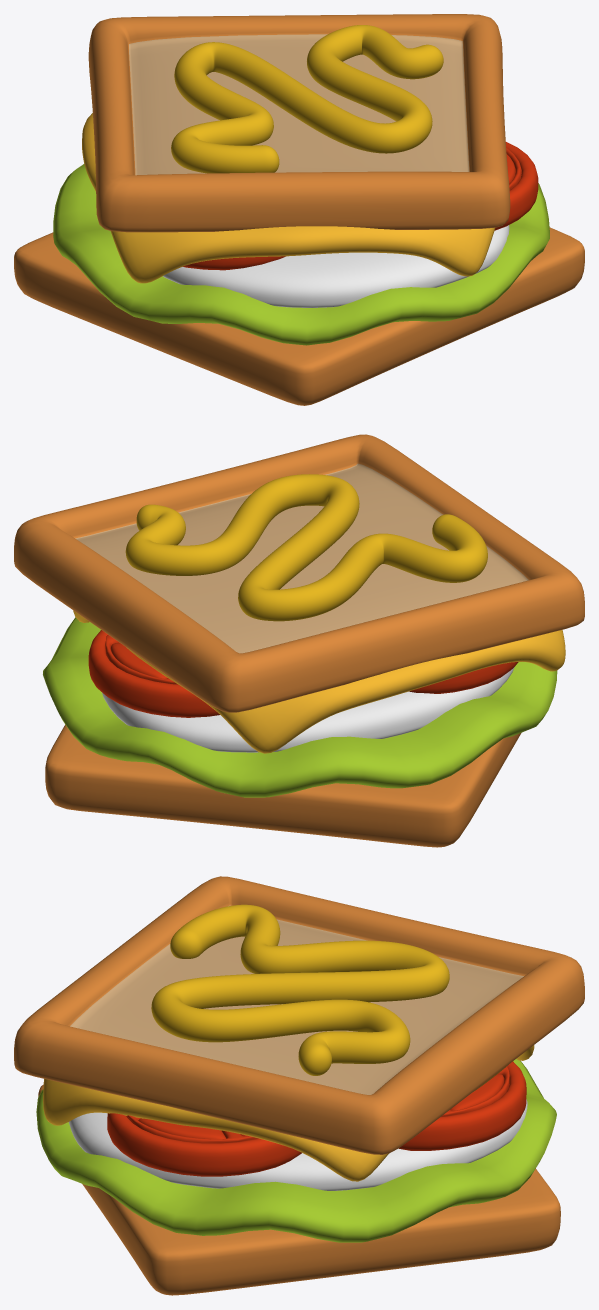
File: SandwichEgg.fbx
3 views of the same model, one above another, from view 1: azimuth 30°, elevation 25°; view 2: azimuth 150°, elevation 25°; view 3: azimuth 270°, elevation 25° (orthographic). The views are drawn at different scales.
Visible parts, largest first — view 1: SandwichBread_Top, SandwichBread_Bottom, SandwichMustardSauce, SandwichLettuceLeaf, SandwichCheeseSlice, SandwichEggWhite, SandwichSlicedTom_01, SandwichSlicedTom_03; view 2: SandwichBread_Top, SandwichLettuceLeaf, SandwichMustardSauce, SandwichBread_Bottom, SandwichCheeseSlice, SandwichEggWhite, SandwichSlicedTom_02, SandwichSlicedTom_03; view 3: SandwichBread_Top, SandwichMustardSauce, SandwichLettuceLeaf, SandwichBread_Bottom, SandwichEggWhite, SandwichSlicedTom_01, SandwichCheeseSlice, SandwichSlicedTom_02.
Boxes of the visible parts, left/top/right/bottom form: SandwichBread_Top: left=88, top=14, right=510, bottom=232; SandwichBread_Bottom: left=14, top=227, right=584, bottom=405; SandwichMustardSauce: left=171, top=25, right=443, bottom=173; SandwichLettuceLeaf: left=53, top=164, right=549, bottom=345; SandwichCheeseSlice: left=82, top=113, right=495, bottom=283; SandwichEggWhite: left=163, top=225, right=509, bottom=307; SandwichSlicedTom_01: left=494, top=142, right=538, bottom=230; SandwichSlicedTom_03: left=183, top=256, right=285, bottom=270; SandwichBread_Top: left=14, top=434, right=584, bottom=712; SandwichLettuceLeaf: left=43, top=617, right=557, bottom=797; SandwichMustardSauce: left=125, top=474, right=487, bottom=621; SandwichBread_Bottom: left=45, top=724, right=521, bottom=847; SandwichCheeseSlice: left=73, top=610, right=565, bottom=753; SandwichEggWhite: left=102, top=667, right=514, bottom=752; SandwichSlicedTom_02: left=88, top=630, right=219, bottom=717; SandwichSlicedTom_03: left=409, top=662, right=518, bottom=693; SandwichBread_Top: left=14, top=876, right=584, bottom=1154; SandwichMustardSauce: left=151, top=904, right=449, bottom=1075; SandwichLettuceLeaf: left=36, top=1059, right=556, bottom=1242; SandwichBread_Bottom: left=38, top=1084, right=560, bottom=1295; SandwichEggWhite: left=69, top=1099, right=527, bottom=1190; SandwichSlicedTom_01: left=107, top=1113, right=301, bottom=1176; SandwichCheeseSlice: left=43, top=1045, right=534, bottom=1181; SandwichSlicedTom_02: left=399, top=1061, right=526, bottom=1150.
Bounding box in the file's own units: 209 × 88.15 × 210.
